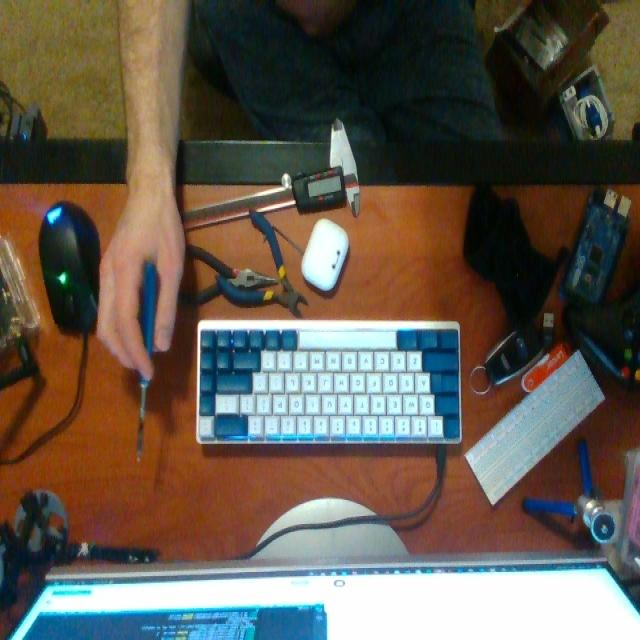keyboard: (197, 320, 461, 442)
